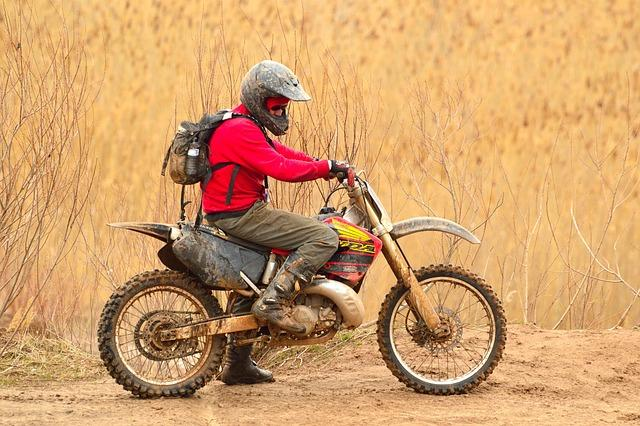Non_Gorille: (56, 6, 640, 426)
